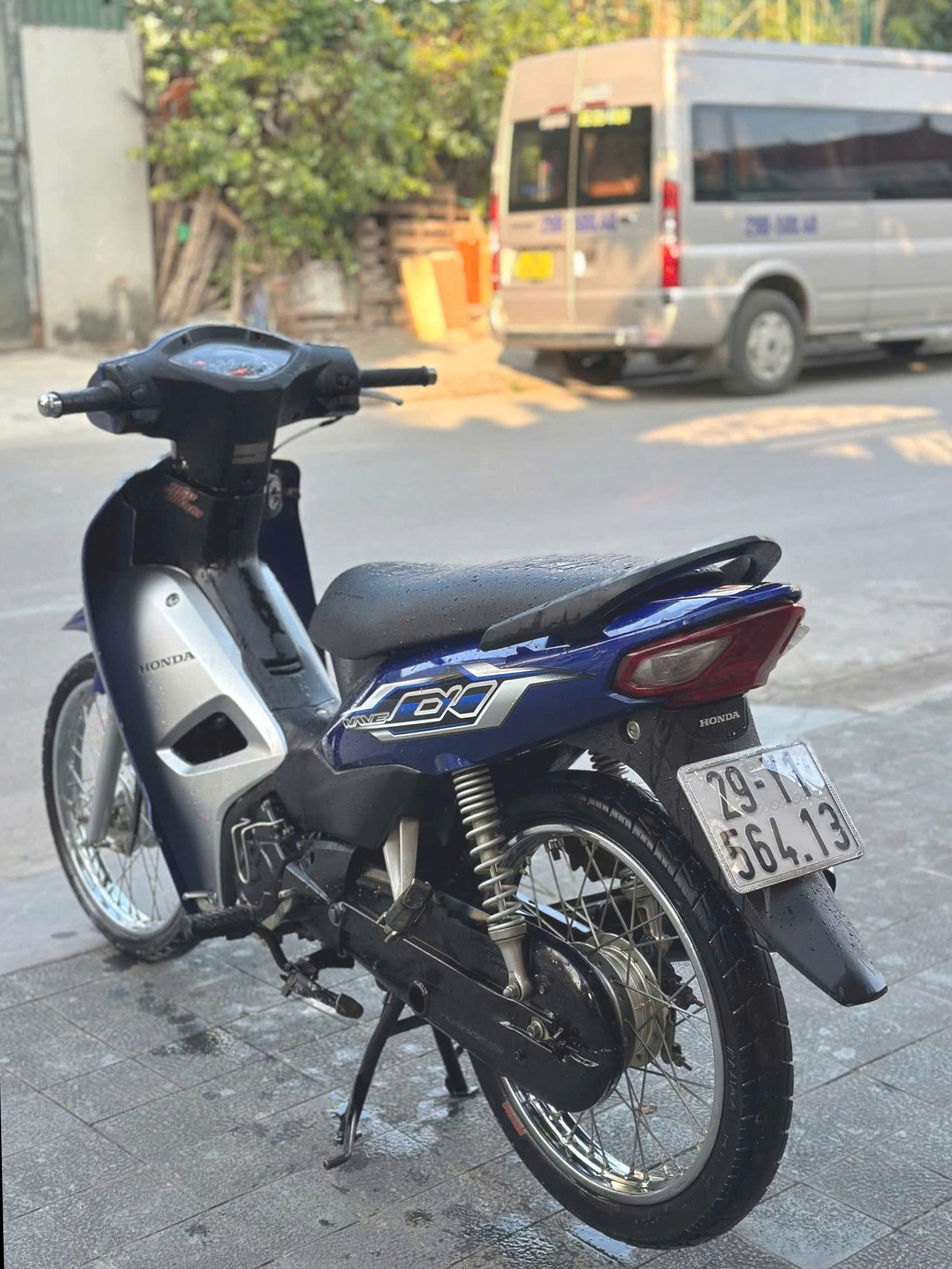Bien-so: (659, 737, 852, 884)
